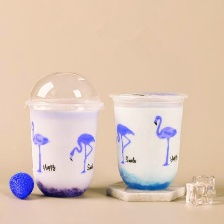glass: (20, 67, 105, 200), (109, 87, 185, 195)
